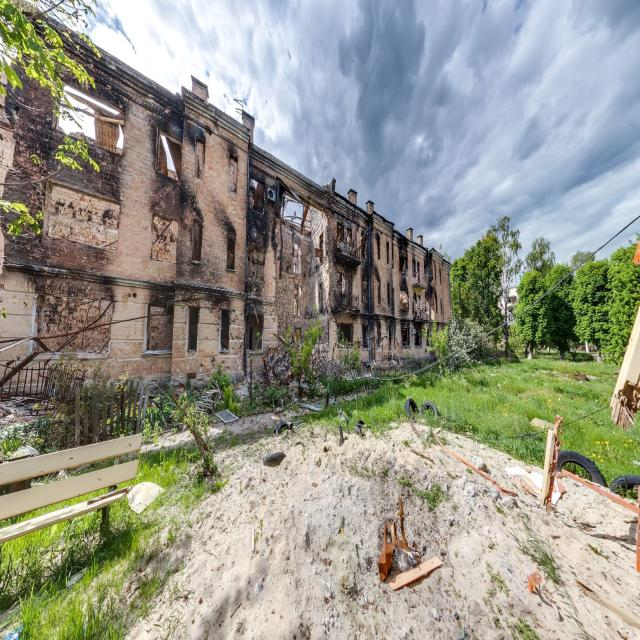broken_window: (142, 298, 174, 355), (155, 128, 182, 181), (186, 305, 198, 355), (190, 217, 202, 264), (218, 308, 230, 353), (228, 151, 238, 195), (226, 230, 235, 272)
building: (0, 2, 454, 407)
